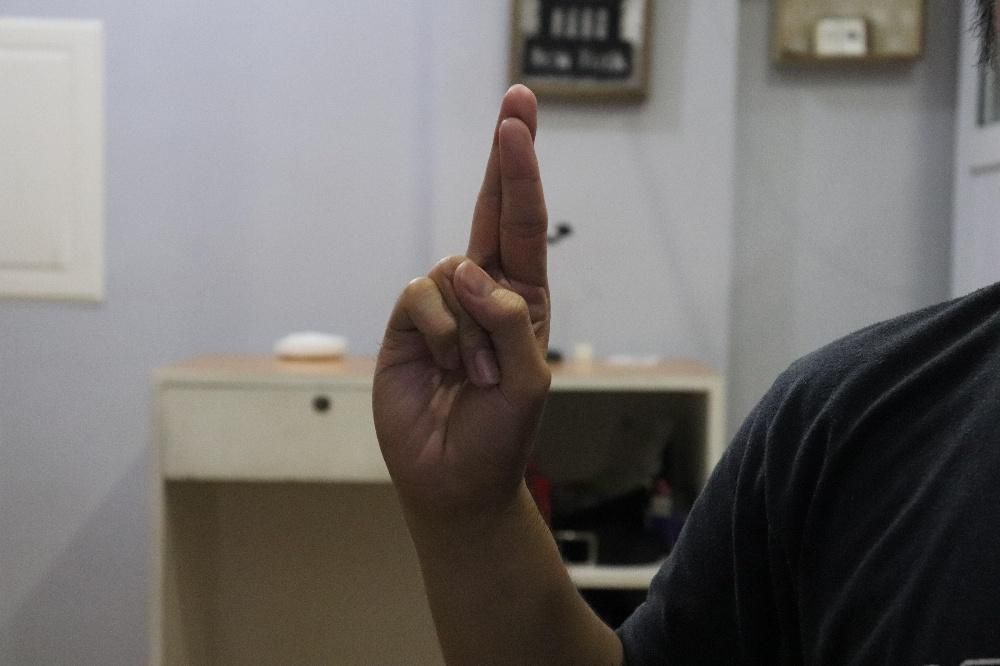r: (370, 80, 553, 502)
